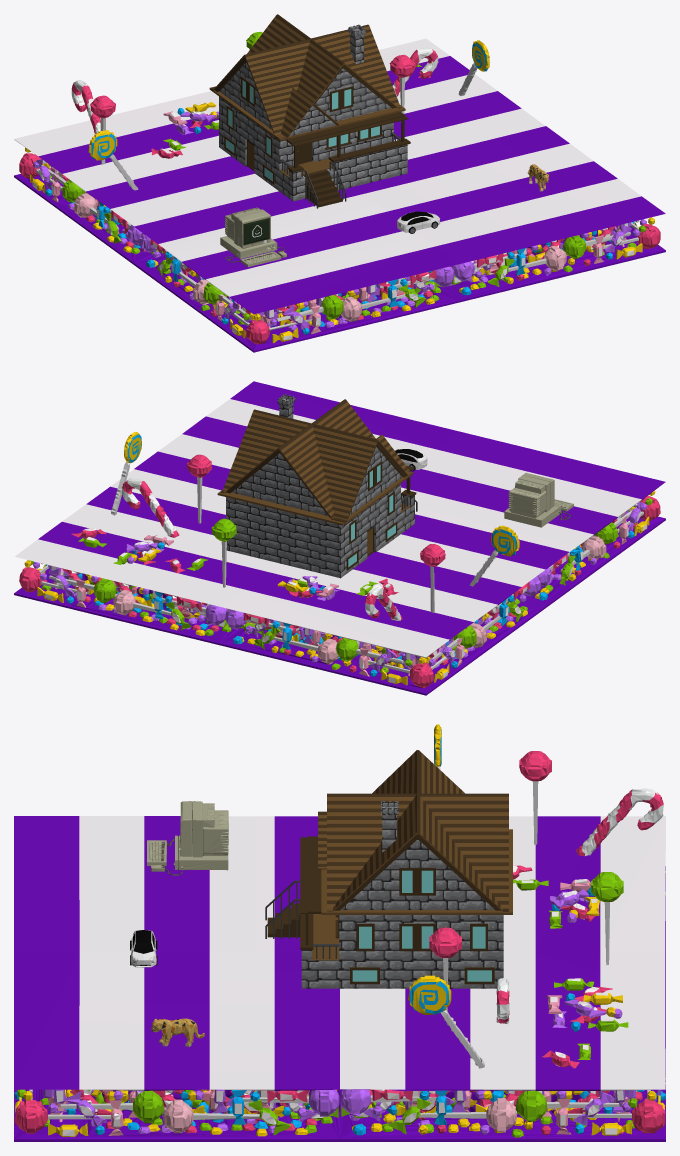
3 views of the same model, one above another, from view 1: azimuth 30°, elevation 25°; view 2: azimuth 150°, elevation 25°; view 3: azimuth 270°, elevation 25° (orthographic). The views are drawn at different scales.
Parts seen in each view (by area): view 1: TERRAIN_CANDY, Cube.586, OBJRANDOM_RETRO_PC, VEHICLES_TESLA; view 2: TERRAIN_CANDY, Cube.586, OBJRANDOM_RETRO_PC, VEHICLES_TESLA; view 3: TERRAIN_CANDY, Cube.586, OBJRANDOM_RETRO_PC, VEHICLES_TESLA, ANIMAL_JAGUAR.
Boxes of the visible parts, x1,y1,x2,y2 form: TERRAIN_CANDY: (14, 31, 665, 352); Cube.586: (209, 14, 410, 208); OBJRANDOM_RETRO_PC: (220, 207, 286, 267); VEHICLES_TESLA: (397, 211, 440, 233); TERRAIN_CANDY: (14, 381, 665, 695); Cube.586: (217, 394, 417, 578); OBJRANDOM_RETRO_PC: (504, 473, 573, 527); VEHICLES_TESLA: (394, 449, 427, 471); TERRAIN_CANDY: (14, 724, 665, 1141); Cube.586: (265, 750, 512, 988); OBJRANDOM_RETRO_PC: (147, 801, 228, 875); VEHICLES_TESLA: (130, 930, 157, 967); ANIMAL_JAGUAR: (151, 1018, 204, 1046).
Size of the model in its own units: 4059 by 1597 by 4000.
25 materials, 3 textured.
